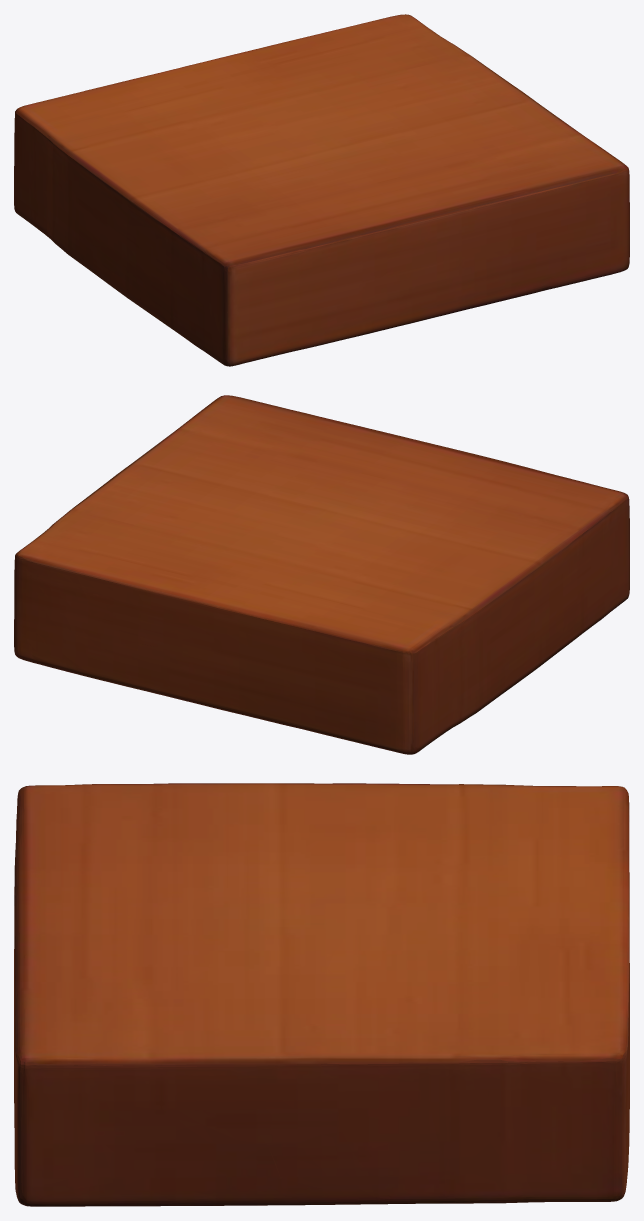
File: floor.glb
3 renders of one model, top to bottom at view 1: azimuth 30°, elevation 25°; view 2: azimuth 150°, elevation 25°; view 3: azimuth 270°, elevation 25°, orthographic. The views are drawn at different scales.
Visible parts, largest first — view 1: world; view 2: world; view 3: world.
Part boxes in pixels (left/top/right/bottom): world: left=14, top=14, right=629, bottom=366; world: left=14, top=395, right=629, bottom=754; world: left=14, top=783, right=629, bottom=1206.
Bounding box in the file's own units: 0.9918 × 0.2433 × 0.9125.
Materials: 1 (1 with a texture image).
